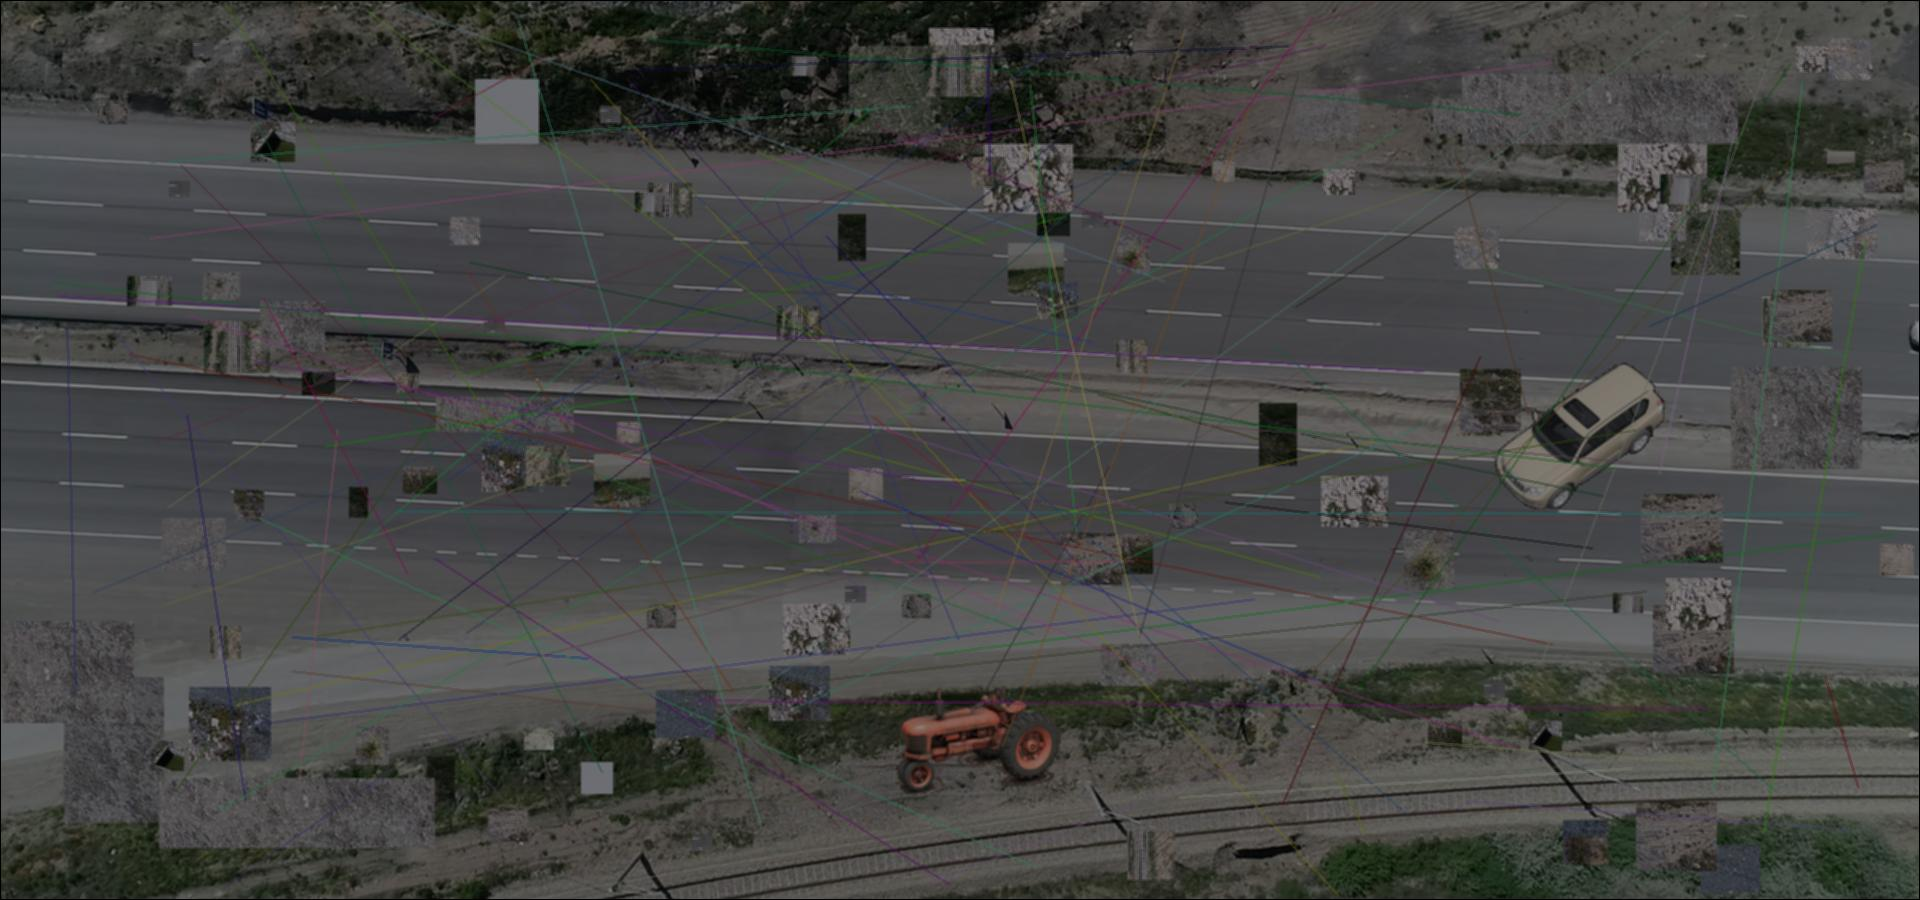arac: (1491, 362, 1671, 509), (896, 688, 1060, 793)
